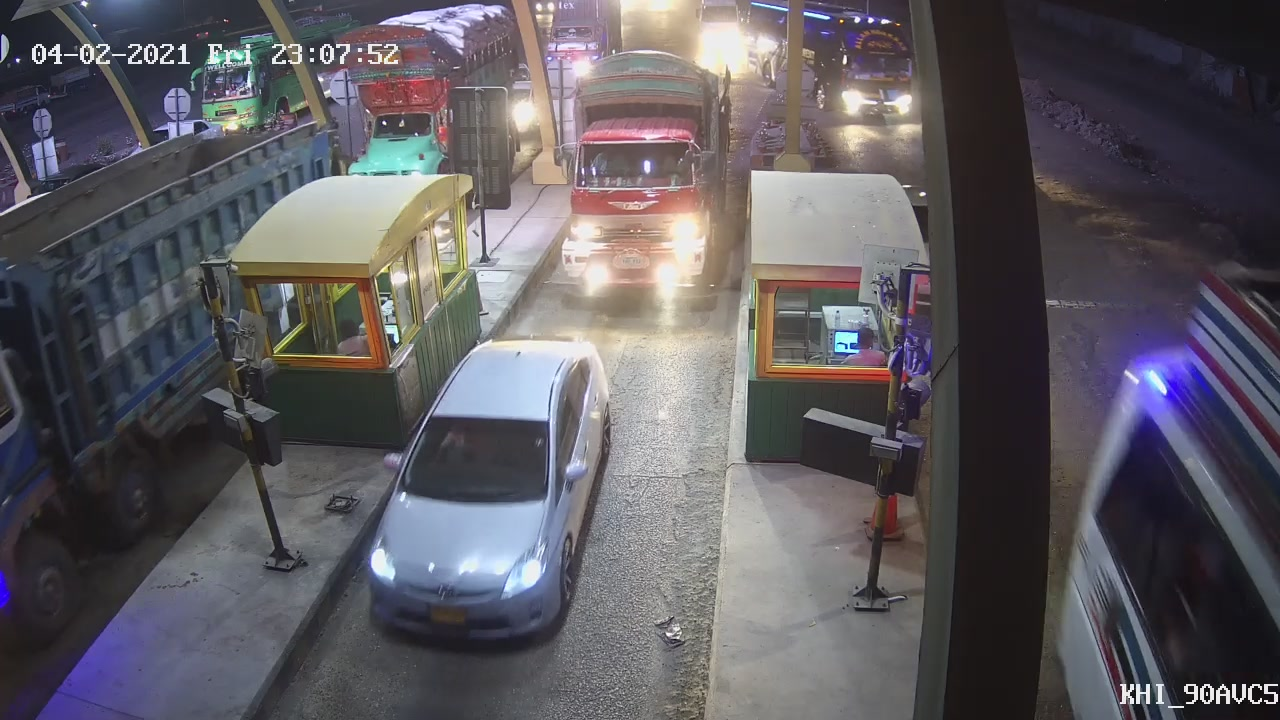F1: (368, 335, 620, 647)
F5: (544, 52, 734, 305)
